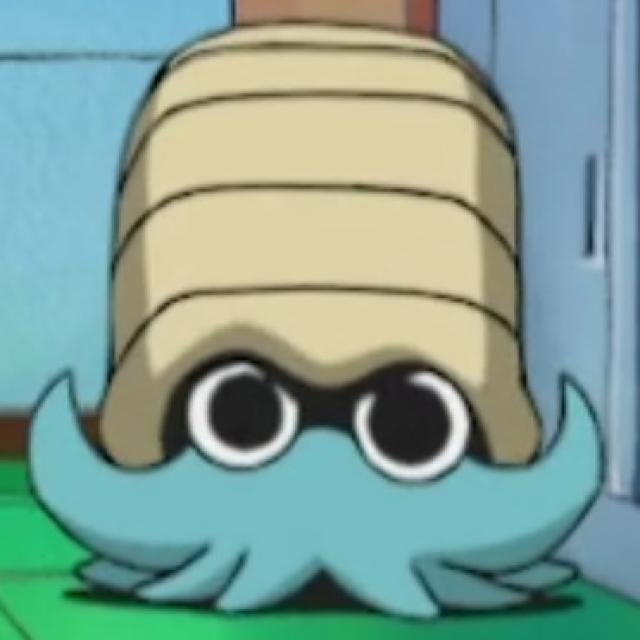Omanyte: (0, 31, 638, 616)
